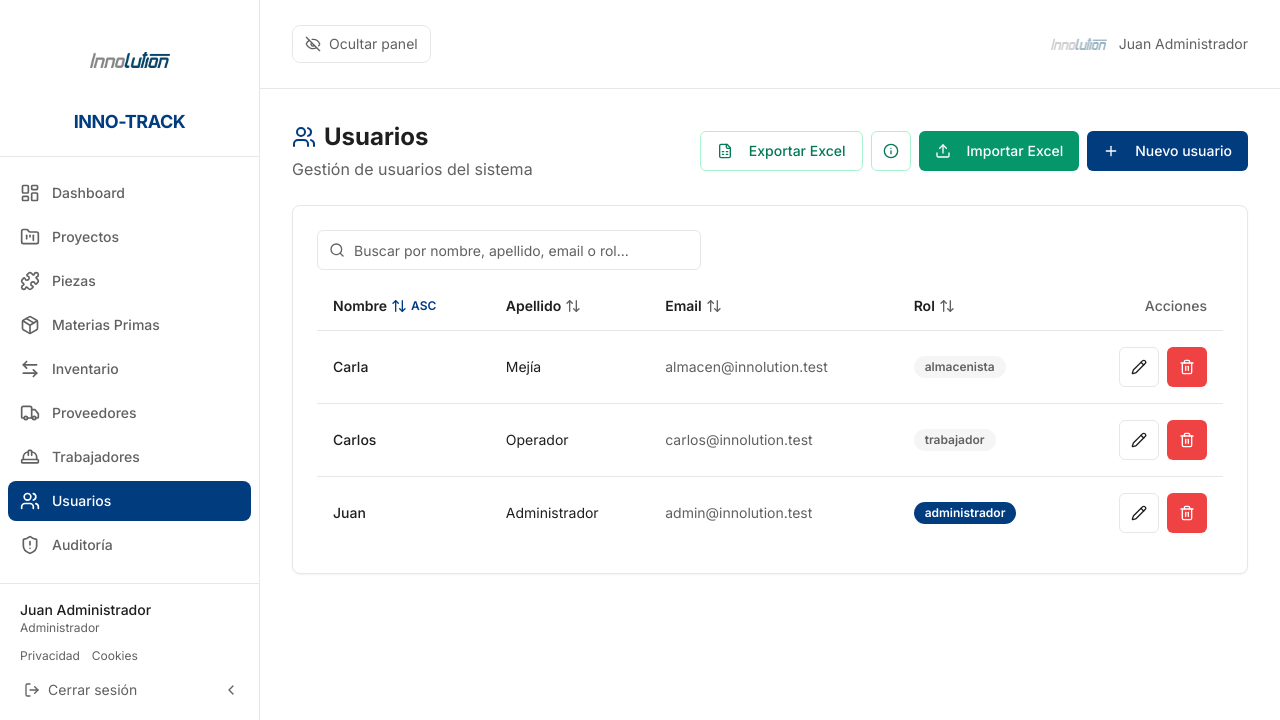
Scenario: Usuarios › muestra el error del backend al guardar
The width and height of the screenshot is (1280, 720).
Click the button titled "Editar" in the row of "Carla" at (1139, 366), box [1119,346,1159,386]
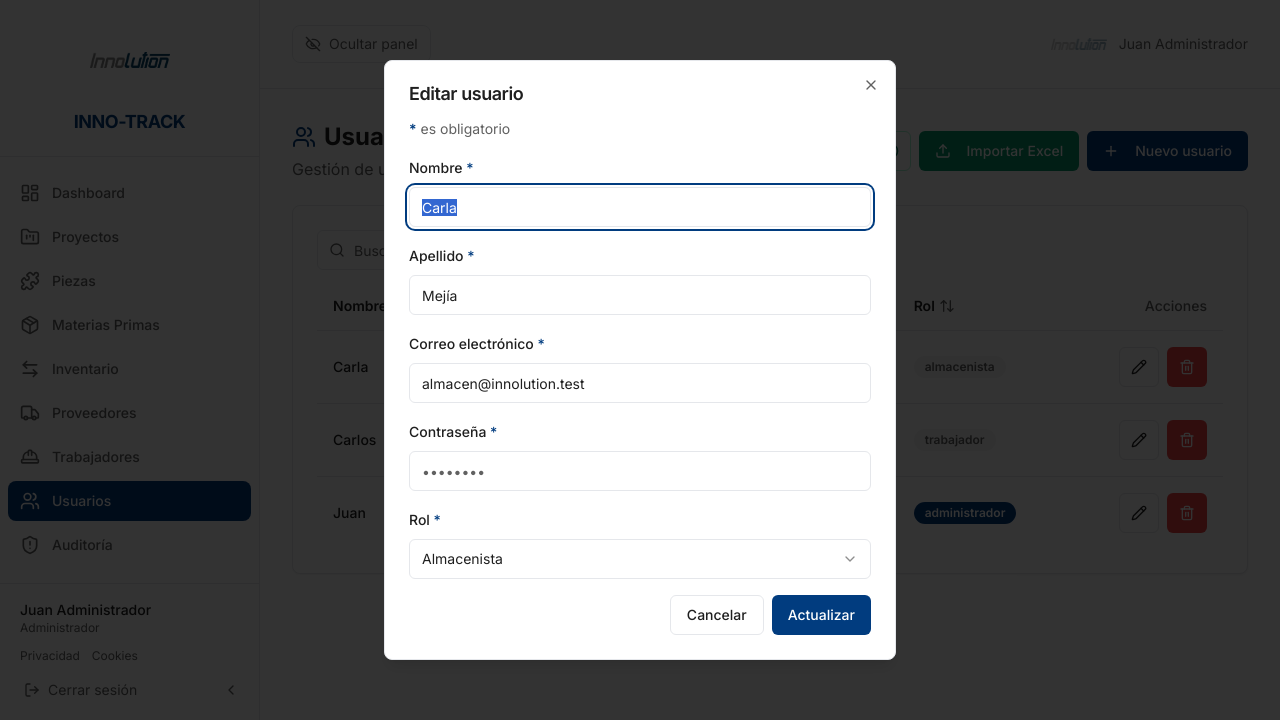
Click the button "Actualizar" at (821, 615), box [772,595,871,635]
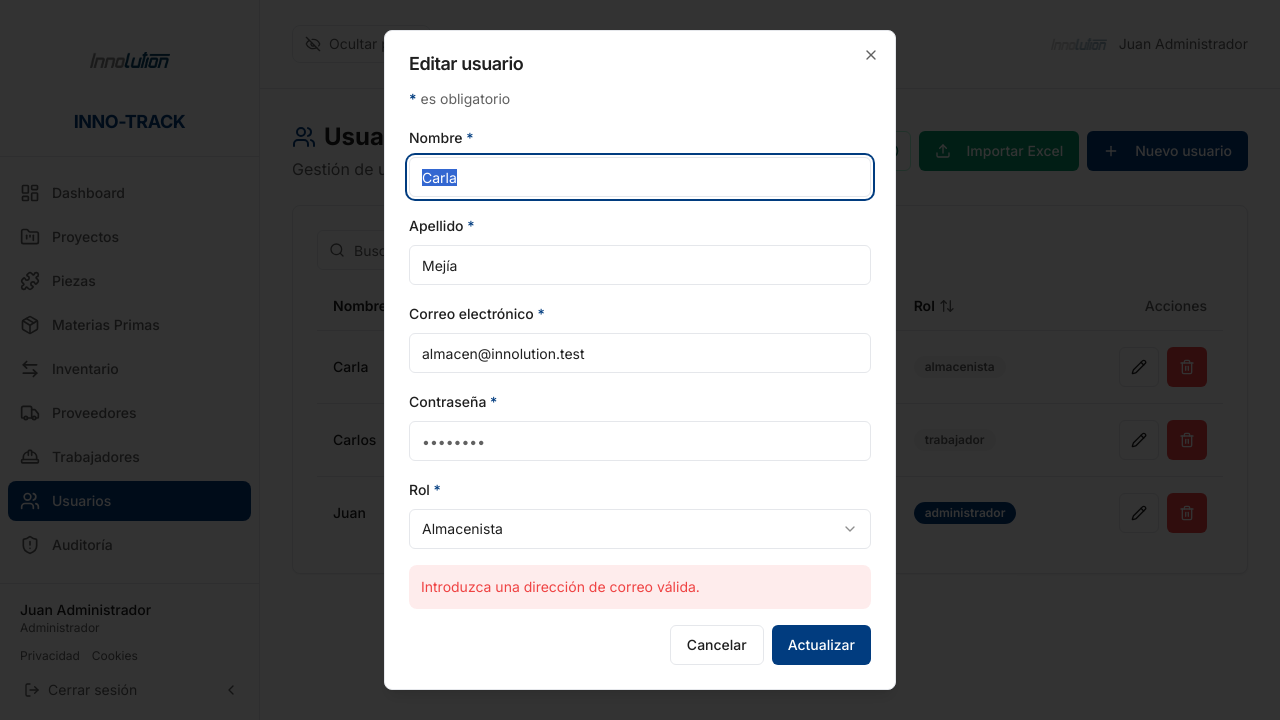
Expected: the text "Introduzca una dirección de correo válida." is shown, [409,565,871,609]
